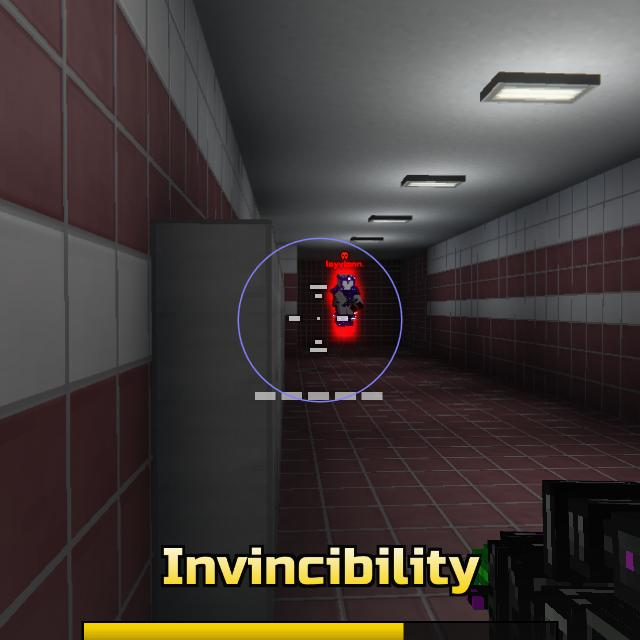Enemy: (331, 273, 362, 326)
